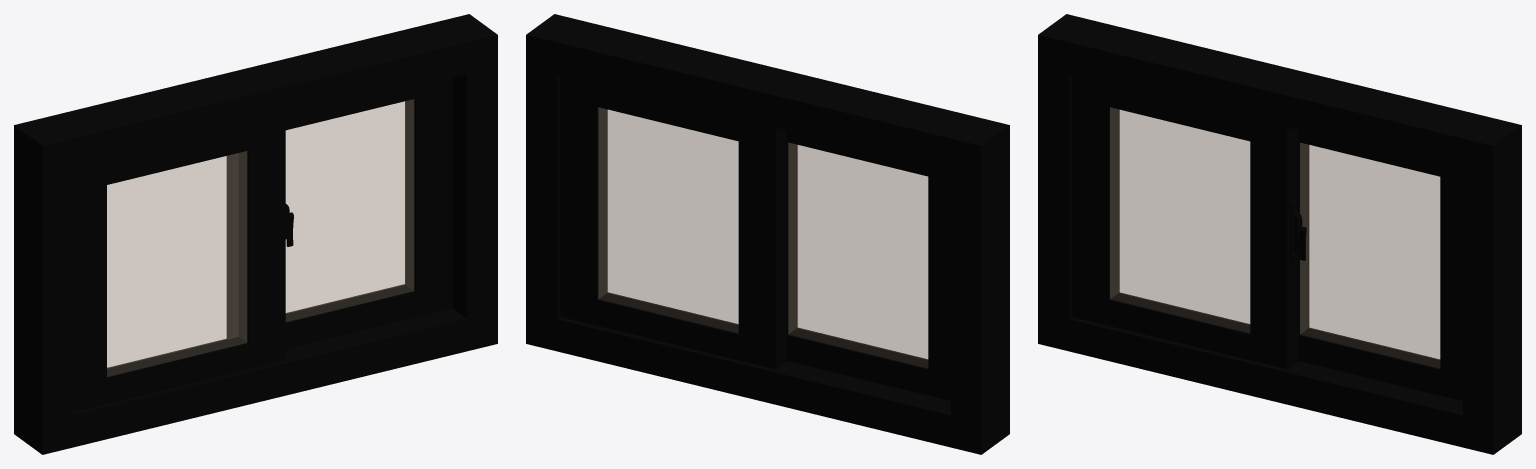
File: 900_series.glb
3 views of the same model, side by side, from view 1: azimuth 30°, elevation 25°; view 2: azimuth 150°, elevation 25°; view 3: azimuth 330°, elevation 25° (orthographic).
Visible parts, largest first — view 1: glass, glass 1, Body2, Body1, Body3, Body17, Body7, Body13, Body4, Body6, Body12, Body5 (+2 smaller); view 2: glass 1, glass, Body2, Body1, Body3, Body10, Body17, Body13, Body4, Body6, Body12, Body11 (+2 smaller); view 3: glass, glass 1, Body2, Body17, Body3, Body7, Body1, Body4, Body13, Body12, Body6, Body5 (+2 smaller).
Boxes of the visible parts, x1=… form: glass: x1=107, y1=151, x2=246, y2=376; glass 1: x1=286, y1=99, x2=413, y2=321; Body2: x1=45, y1=21, x2=466, y2=170; Body1: x1=14, y1=117, x2=73, y2=454; Body3: x1=73, y1=308, x2=466, y2=447; Body17: x1=439, y1=14, x2=497, y2=351; Body7: x1=238, y1=119, x2=289, y2=369; Body13: x1=405, y1=78, x2=452, y2=317; Body4: x1=73, y1=162, x2=106, y2=411; Body6: x1=107, y1=336, x2=248, y2=403; Body12: x1=285, y1=284, x2=415, y2=348; Body5: x1=107, y1=128, x2=248, y2=184; glass 1: x1=598, y1=107, x2=738, y2=332; glass: x1=788, y1=143, x2=927, y2=367; Body2: x1=557, y1=21, x2=978, y2=170; Body1: x1=950, y1=117, x2=1009, y2=454; Body3: x1=557, y1=317, x2=950, y2=447; Body10: x1=738, y1=119, x2=786, y2=369; Body17: x1=526, y1=14, x2=584, y2=351; Body13: x1=560, y1=75, x2=607, y2=325; Body4: x1=928, y1=165, x2=950, y2=400; Body6: x1=787, y1=327, x2=928, y2=395; Body12: x1=597, y1=292, x2=738, y2=360; Body11: x1=597, y1=84, x2=738, y2=141; glass: x1=1110, y1=107, x2=1249, y2=332; glass 1: x1=1300, y1=143, x2=1439, y2=368; Body2: x1=1069, y1=21, x2=1490, y2=170; Body17: x1=1462, y1=117, x2=1521, y2=454; Body3: x1=1069, y1=317, x2=1462, y2=447; Body7: x1=1250, y1=119, x2=1302, y2=369; Body1: x1=1038, y1=14, x2=1096, y2=351; Body4: x1=1072, y1=75, x2=1119, y2=325; Body13: x1=1440, y1=165, x2=1462, y2=400; Body12: x1=1298, y1=327, x2=1440, y2=395; Body6: x1=1109, y1=292, x2=1250, y2=360; Body5: x1=1109, y1=84, x2=1250, y2=141.
Size of the model in its own units: 0.185 by 0.12 by 0.02.
